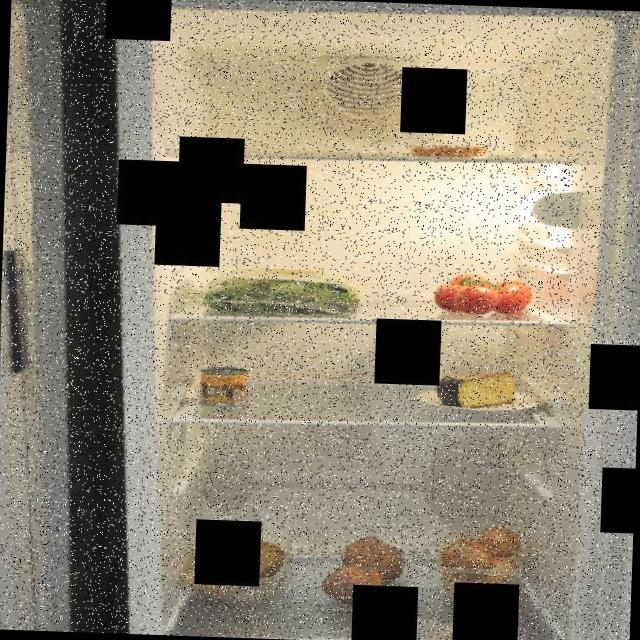Cebolla: (433, 522, 523, 600)
Gambas/Langostinos: (406, 142, 488, 158)
Patata: (180, 524, 298, 604)
Queso: (432, 361, 522, 411)
Tomate: (430, 266, 536, 318)
corn: (198, 364, 248, 408)
spinach: (186, 261, 373, 321)
sweet_potato: (316, 528, 408, 612)
